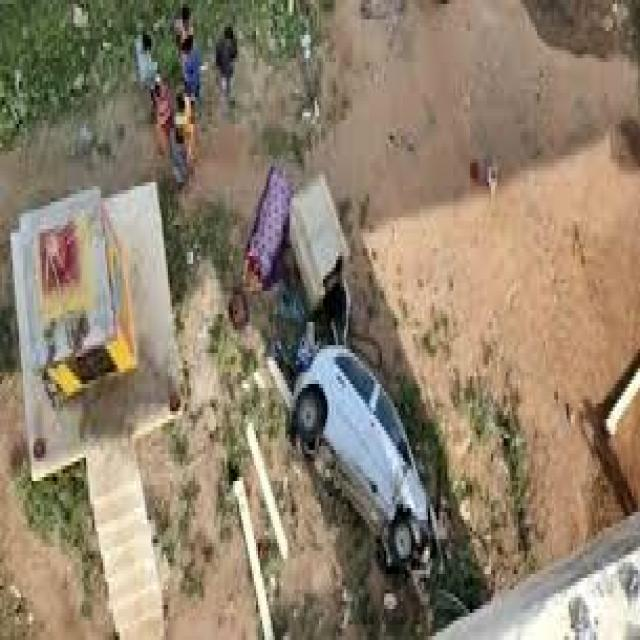accident: (282, 314, 461, 585)
